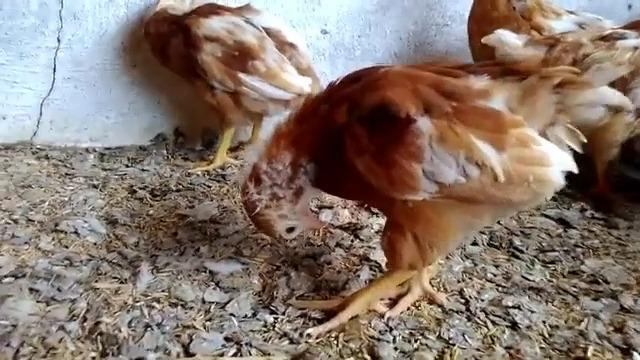AbNormal: (229, 64, 618, 351)
